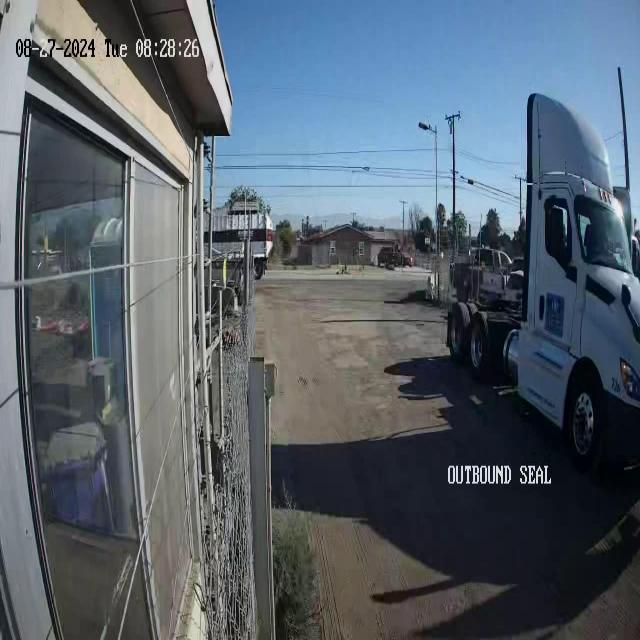BOBTAIL: (444, 89, 639, 466)
